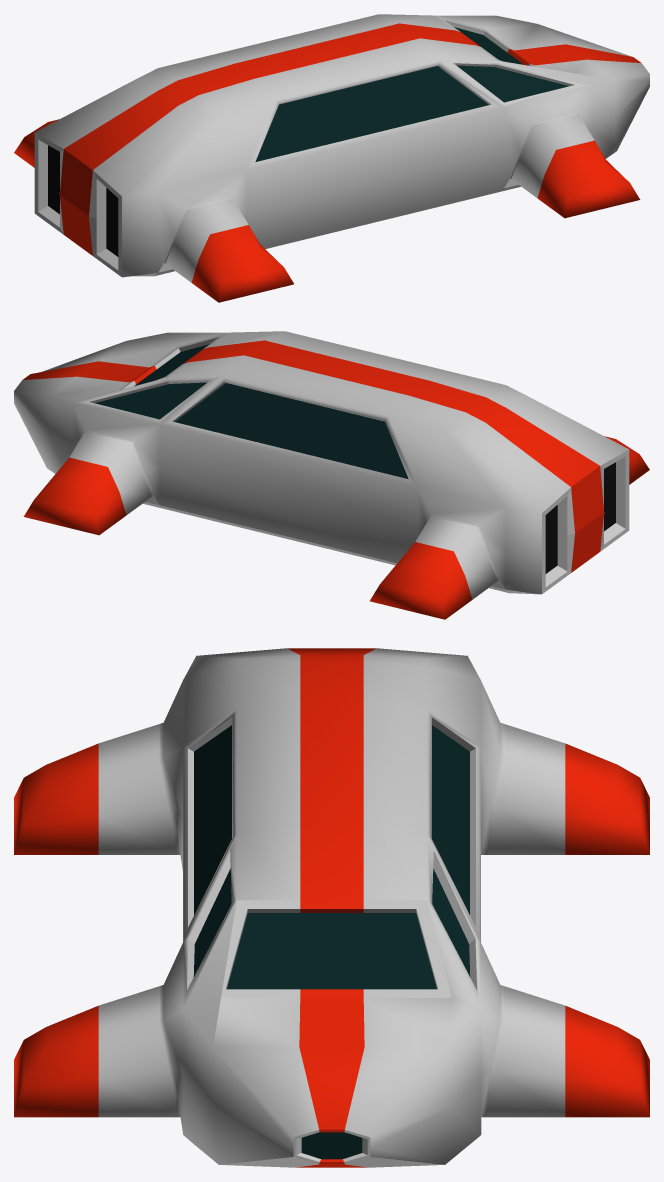
Rendered from hover_vehicle.fbx.
3 renders of one model, top to bottom at view 1: azimuth 30°, elevation 25°; view 2: azimuth 150°, elevation 25°; view 3: azimuth 270°, elevation 25°, orthographic. The views are drawn at different scales.
Visible parts, largest first — view 1: Cube; view 2: Cube; view 3: Cube.
Boxes of the visible parts, box(x1,y1,x2,y2) form: Cube: box(14, 14, 649, 302); Cube: box(14, 331, 649, 619); Cube: box(14, 648, 649, 1167).
Bounding box in the file's own units: 427 × 679 × 161.
